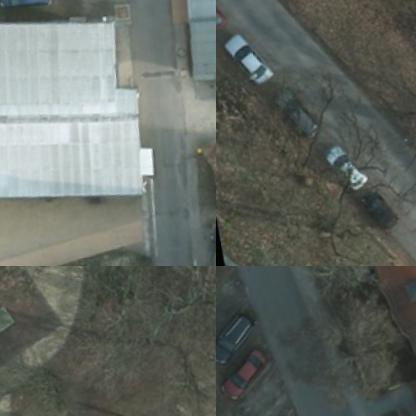car: (348, 175, 413, 238), (218, 25, 282, 88), (316, 134, 380, 197), (266, 80, 330, 142), (217, 347, 276, 399), (216, 310, 263, 364), (1, 0, 56, 11)
